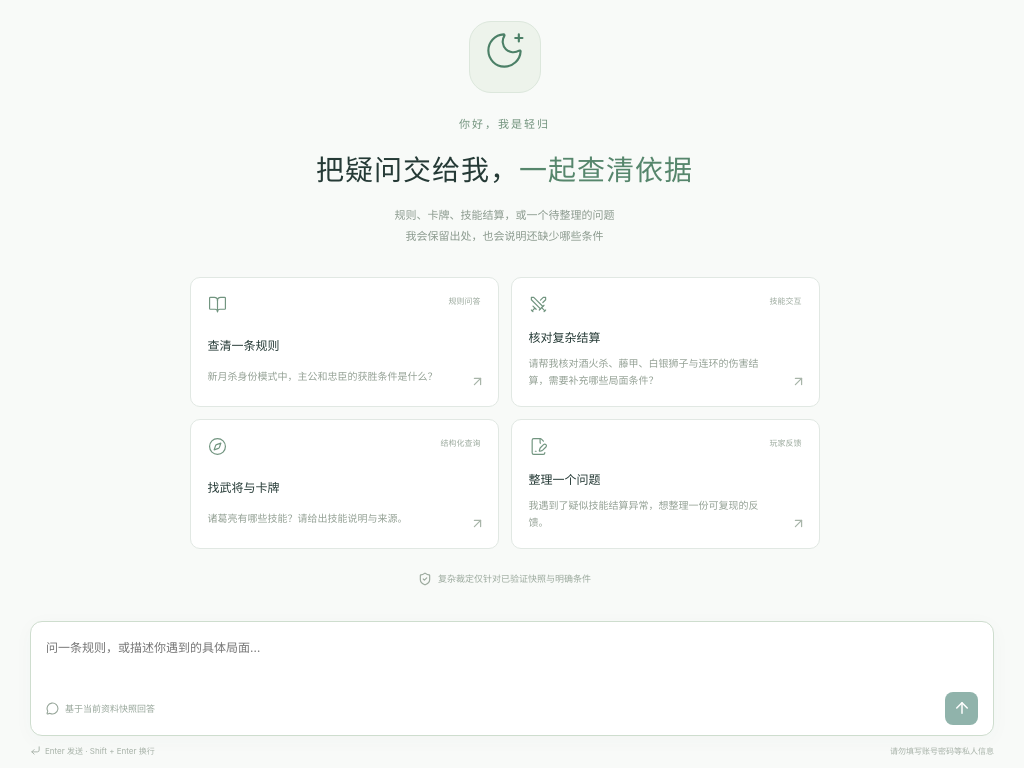
preserves the appropriate draft if creating a conversation fails (new draft: false)
(page scrolled)
Type "原始问题" into the text box named "输入问题".
click(512, 662); type("原始问题")  # box left=46, top=632, right=978, bottom=692
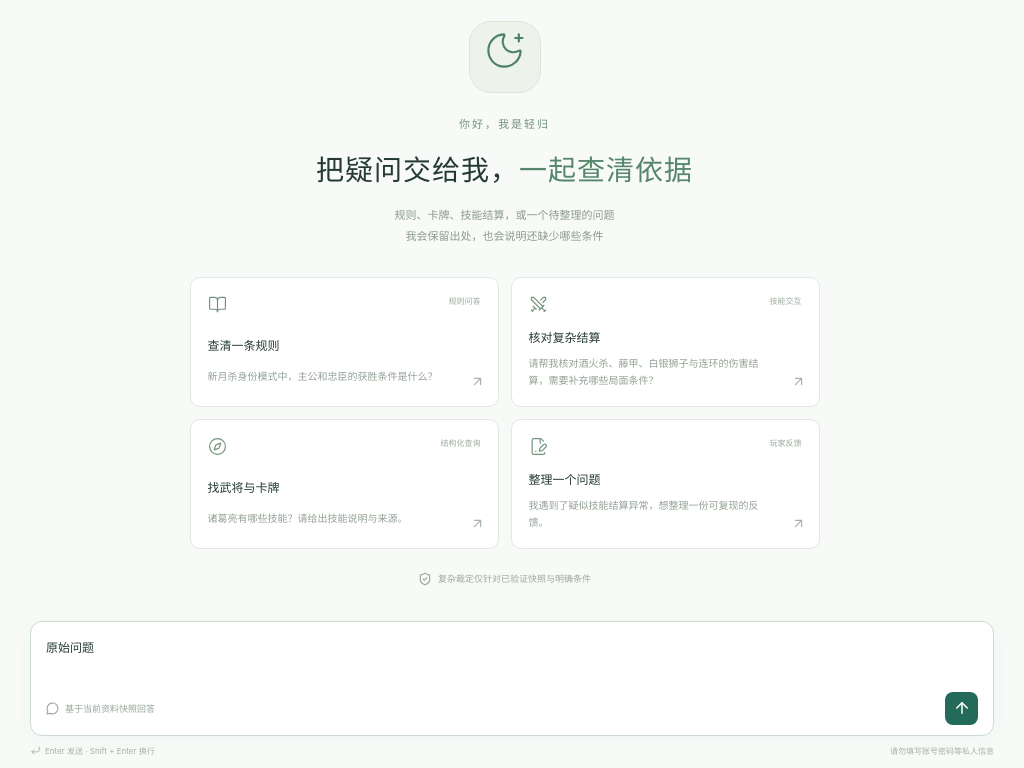
Click the button named "发送问题".
click(962, 708)  # box left=945, top=692, right=978, bottom=725
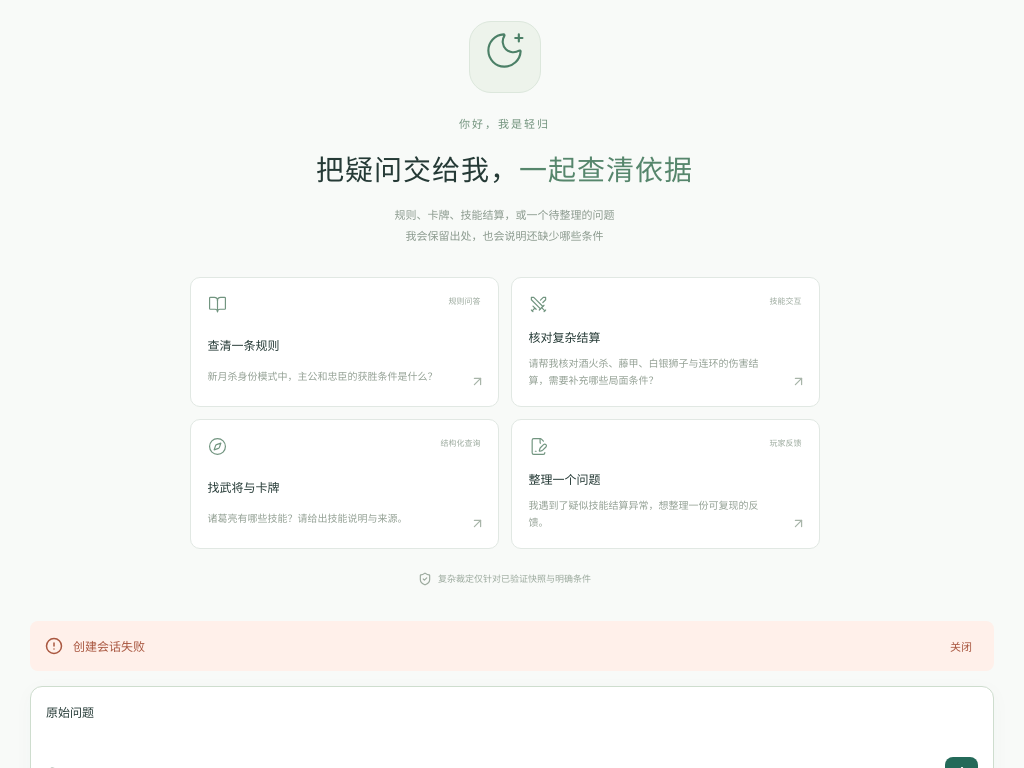
Expected: the text box named "输入问题" is enabled, left=46, top=697, right=978, bottom=757
Expected: the text "创建会话失败" is shown, left=73, top=639, right=145, bottom=654
